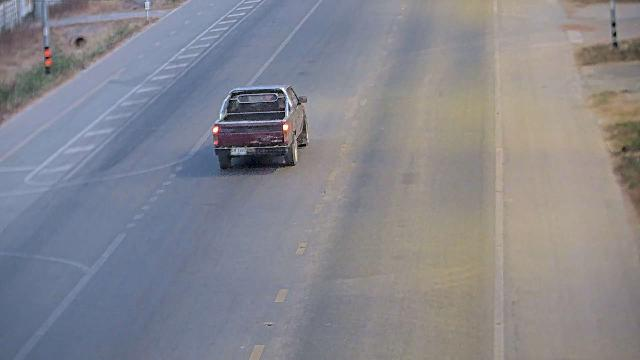pickup-truck: (211, 84, 309, 169)
